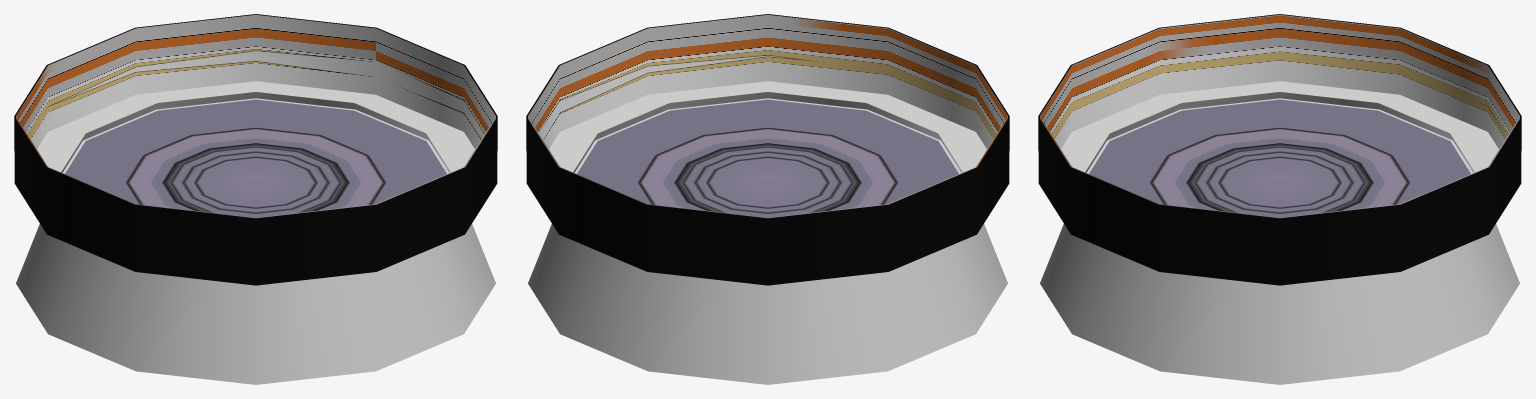
The model's file is Rooms_Paradise_Propellant_Art.fbx.
The picture shows the model from 3 angles, left to right: view 1: azimuth 30°, elevation 25°; view 2: azimuth 150°, elevation 25°; view 3: azimuth 270°, elevation 25°; orthographic projection.
Visible parts, largest first — view 1: Rooms_Paradise_Propellant_Art, Rooms_Paradise_Propellant_Outliner; view 2: Rooms_Paradise_Propellant_Art, Rooms_Paradise_Propellant_Outliner; view 3: Rooms_Paradise_Propellant_Art, Rooms_Paradise_Propellant_Outliner.
Boxes of the visible parts, <box> form: Rooms_Paradise_Propellant_Art: <box>16,14,495,384</box>; Rooms_Paradise_Propellant_Outliner: <box>14,14,497,285</box>; Rooms_Paradise_Propellant_Art: <box>528,14,1007,384</box>; Rooms_Paradise_Propellant_Outliner: <box>526,14,1009,285</box>; Rooms_Paradise_Propellant_Art: <box>1040,14,1519,384</box>; Rooms_Paradise_Propellant_Outliner: <box>1038,14,1521,285</box>.
Bounding box in the file's own units: 298 × 114 × 298.
